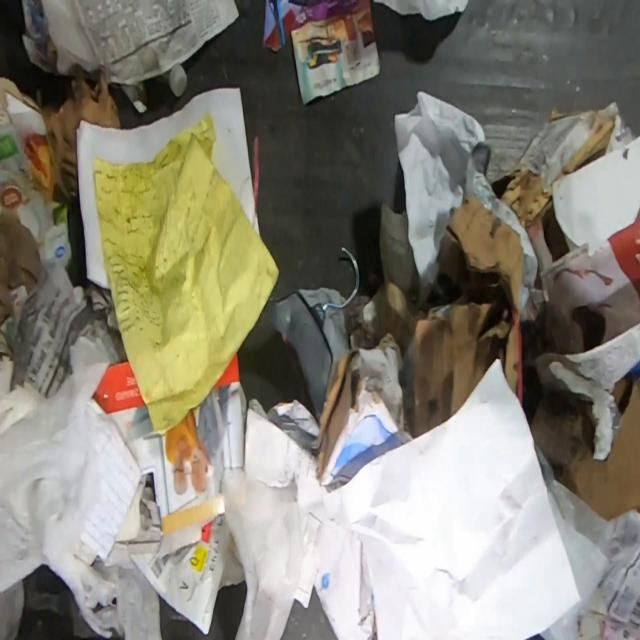cardboard: (247, 278, 422, 494), (412, 191, 524, 439), (498, 103, 615, 233), (40, 69, 122, 205)
rigid_plastic: (238, 245, 360, 424), (153, 63, 188, 97)
soft_plastic: (0, 335, 112, 640), (216, 467, 304, 640), (90, 554, 162, 640)
